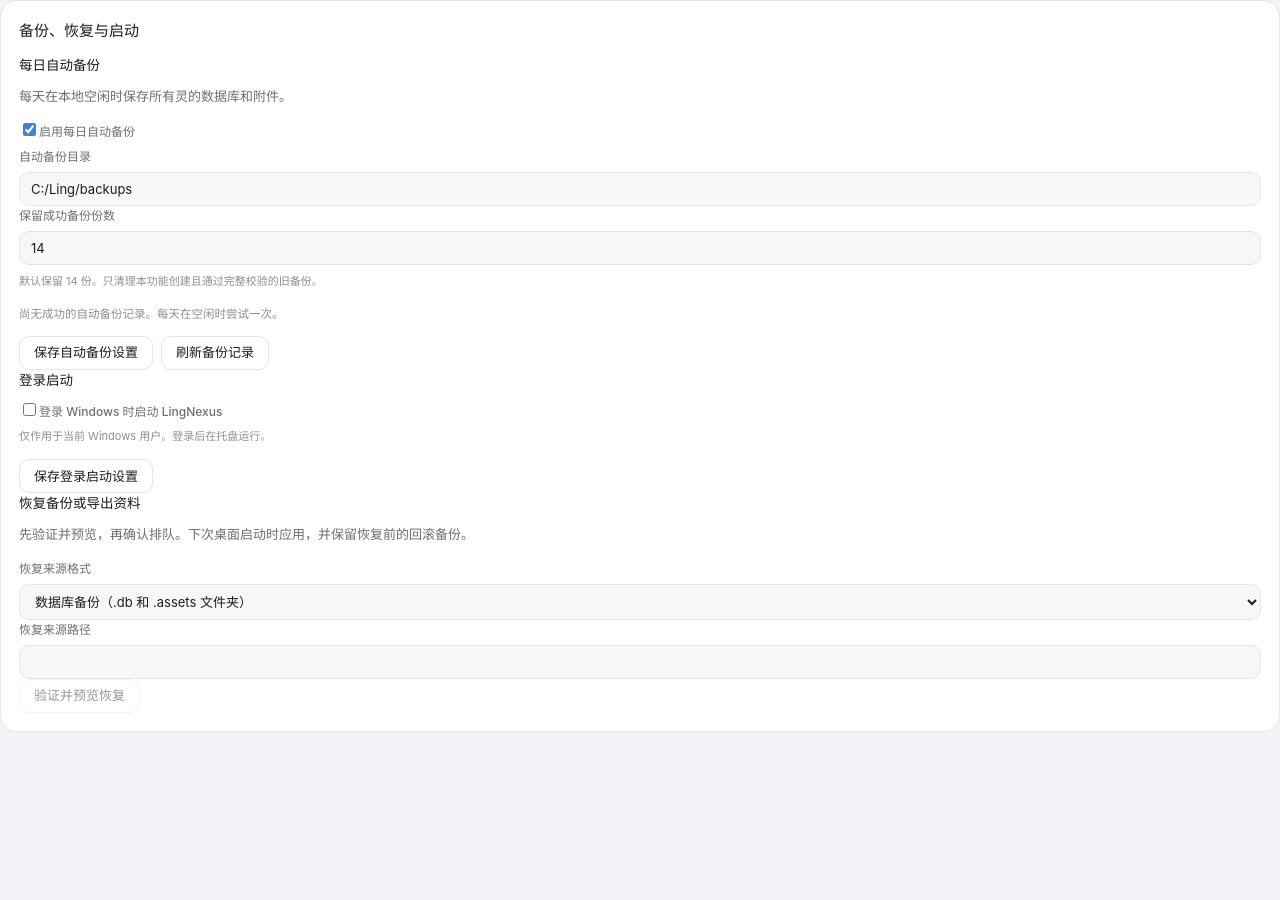
Test case: editing the source invalidates the preview and failed commit does not show queued success
Type "C:/backup.db" into the field labelled "恢复来源路径".
click(640, 662); type("C:/backup.db")  # box x1=19 y1=645 x2=1261 y2=679
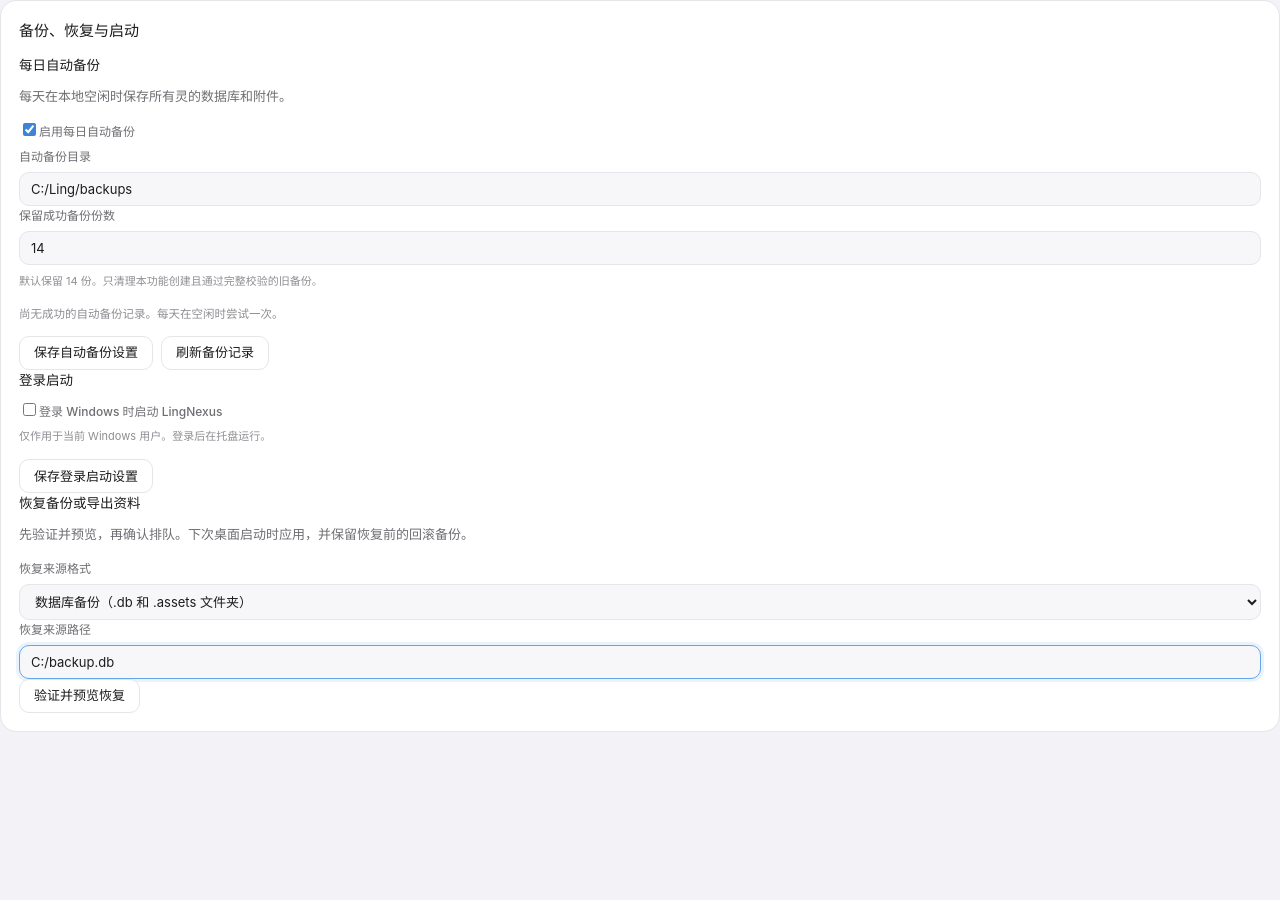
Click the button "验证并预览恢复".
click(80, 696)  # box x1=19 y1=679 x2=140 y2=713
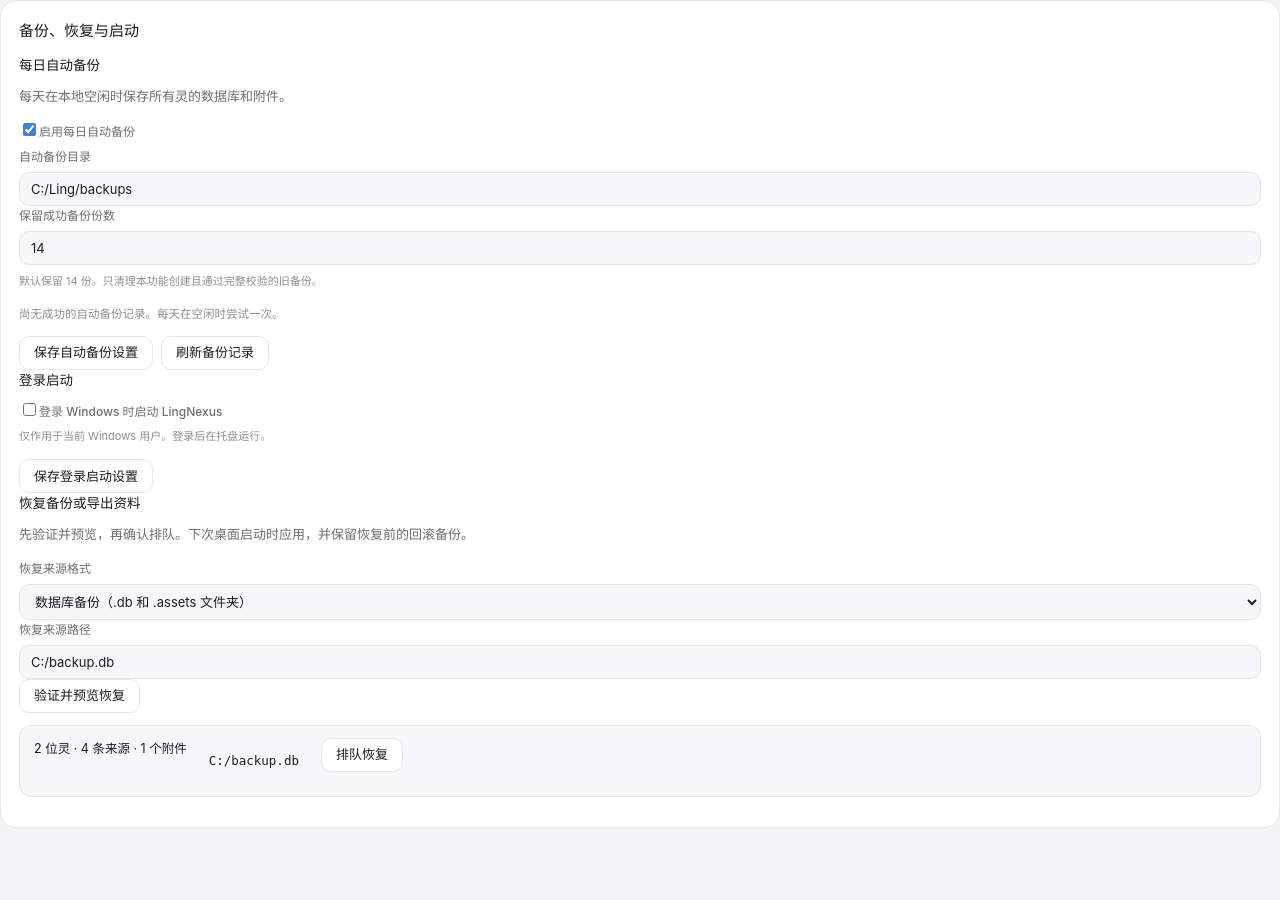
Expected: the button "排队恢复" is shown, x1=321 y1=738 x2=403 y2=772
Type "2" into the field labelled "恢复来源路径".
click(640, 662); type("2")  # box x1=19 y1=645 x2=1261 y2=679
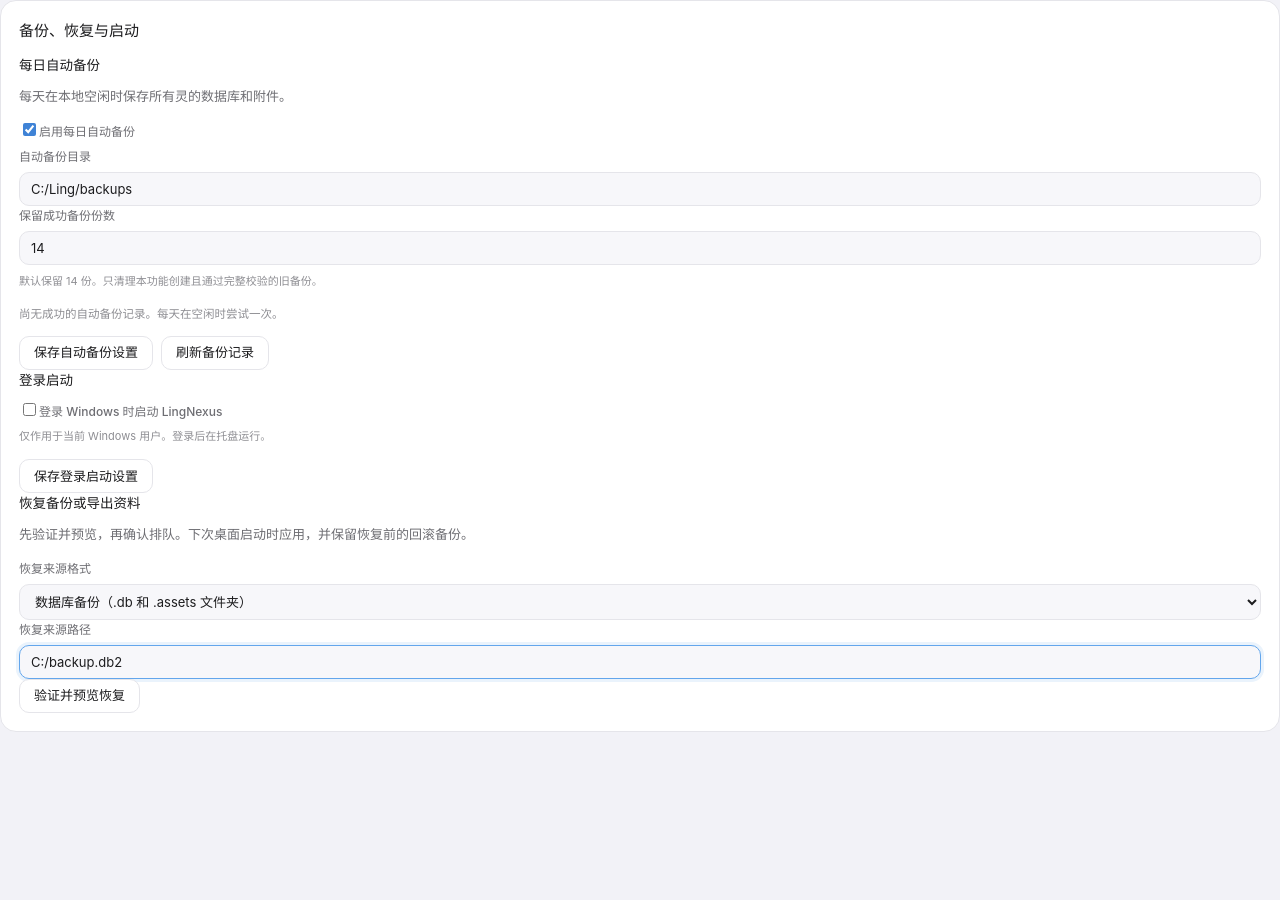
Expected: the button "排队恢复" is gone
Click the button "验证并预览恢复".
click(80, 696)  # box x1=19 y1=679 x2=140 y2=713
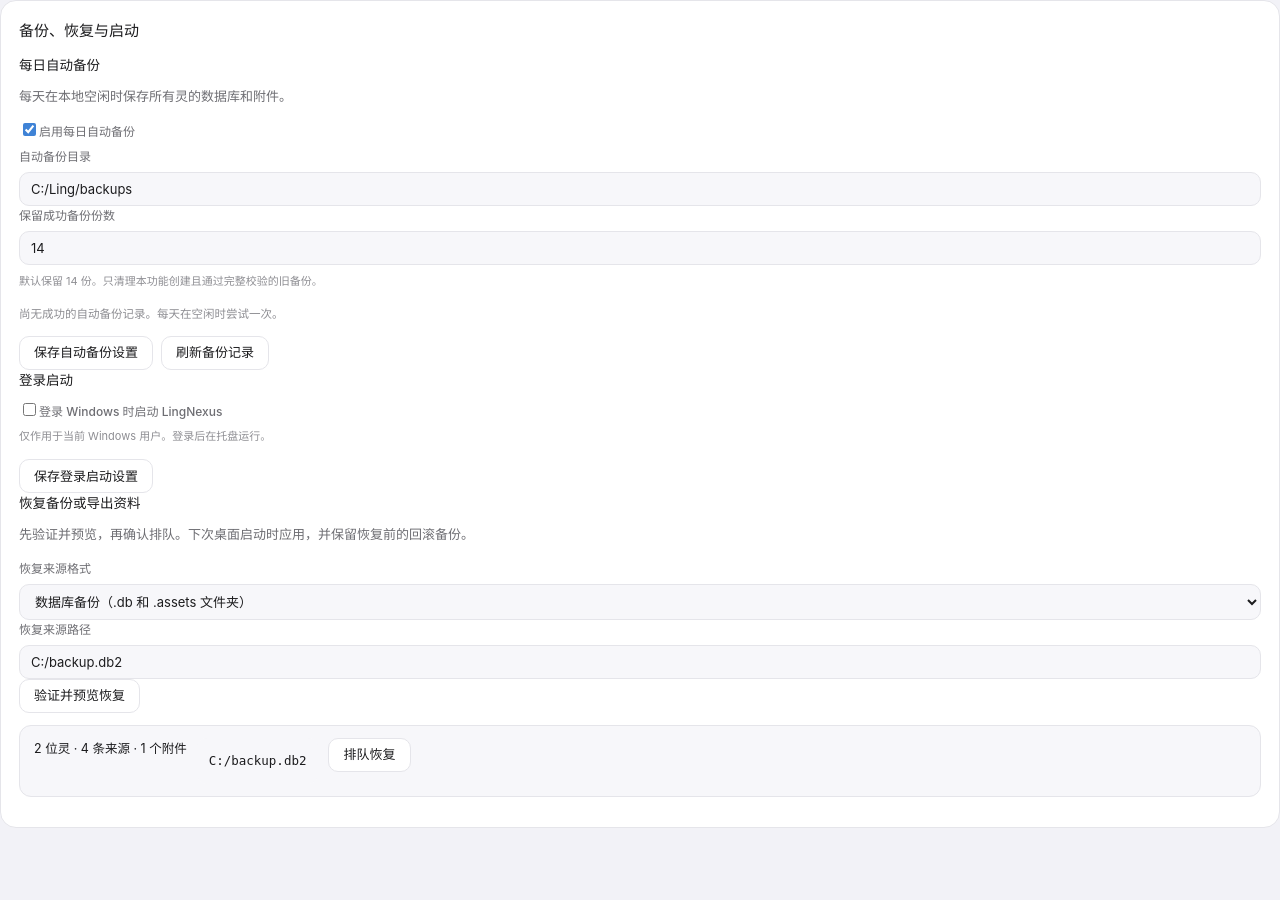
Click the button "排队恢复".
click(370, 755)  # box x1=328 y1=738 x2=410 y2=772
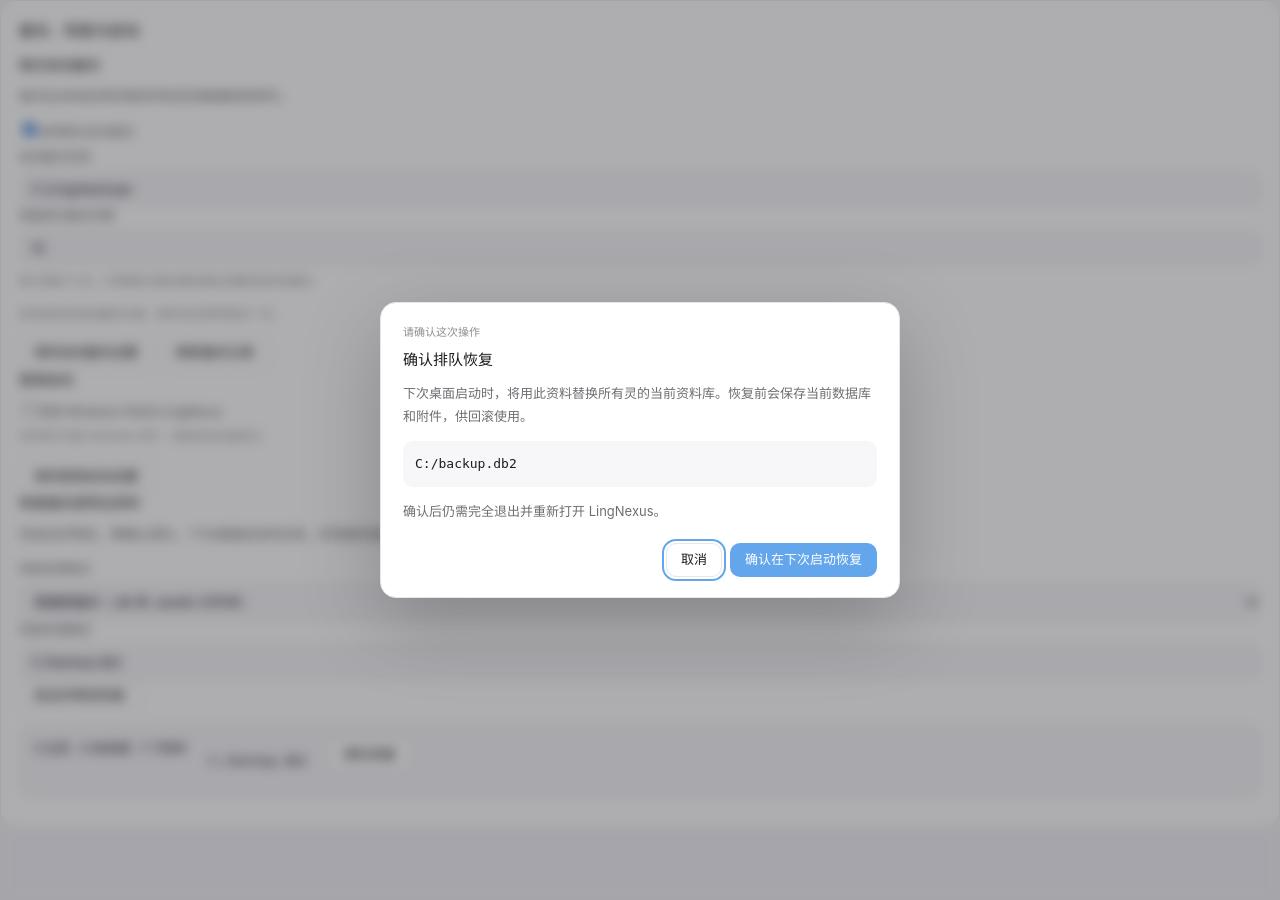
Click the button "确认在下次启动恢复".
click(804, 560)  # box x1=730 y1=543 x2=877 y2=577
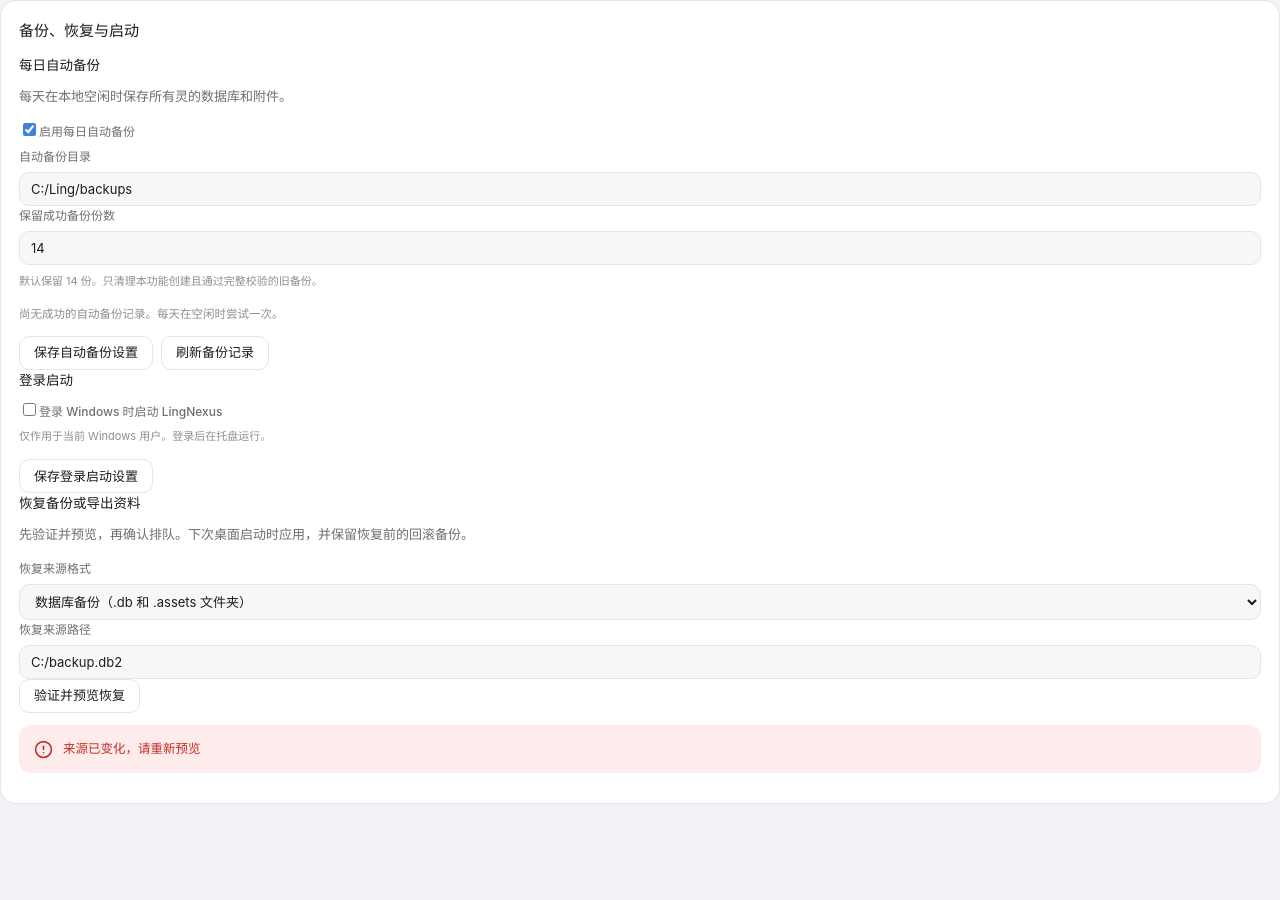
Expected: the text "来源已变化，请重新预览" is shown, x1=63 y1=738 x2=200 y2=760
